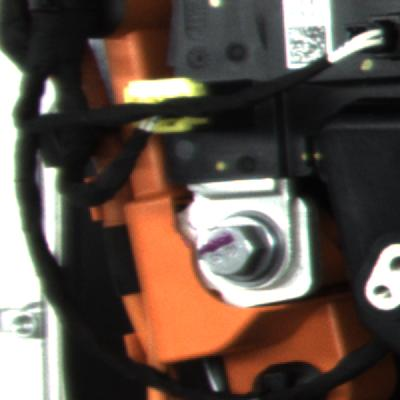nut_b: (196, 203, 300, 298)
